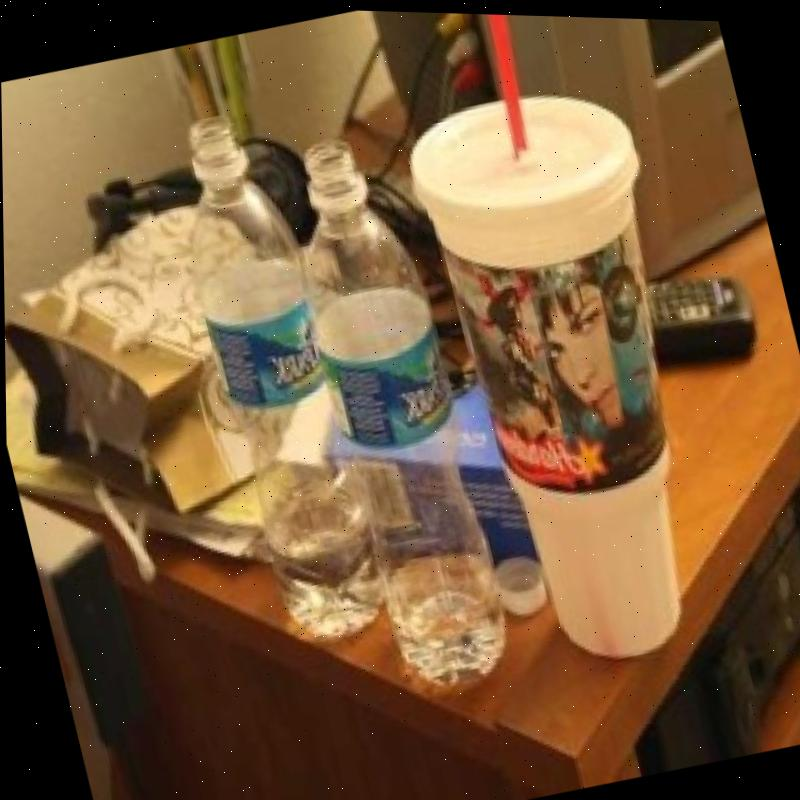botella: (268, 127, 519, 702), (153, 101, 388, 652)
